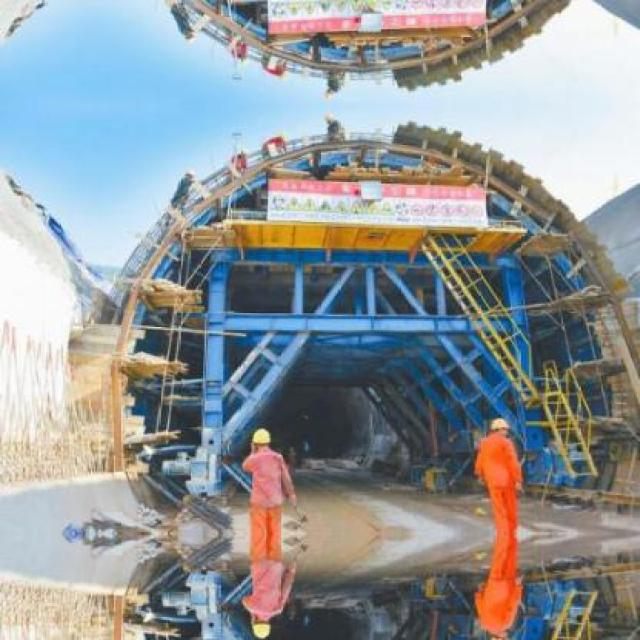helmet: (249, 423, 274, 454), (250, 611, 276, 637), (490, 412, 510, 435), (489, 629, 511, 637)
